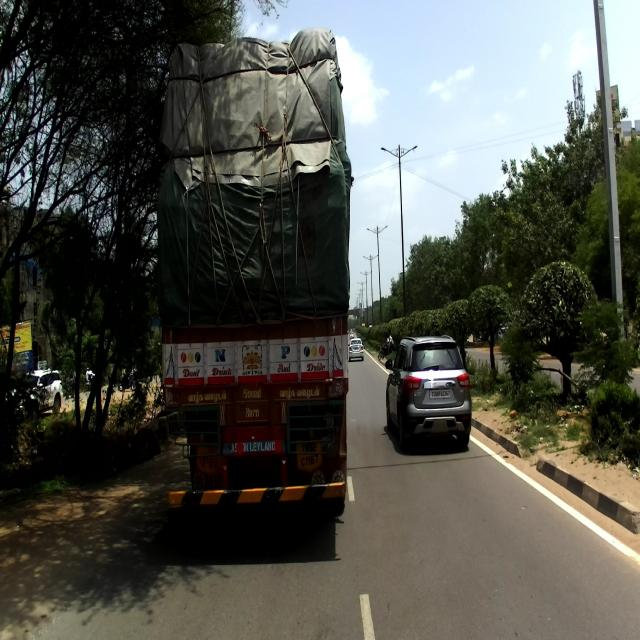Car: (5, 367, 62, 421)
Car_Maruti-Suzuki: (385, 334, 472, 450)
truck: (154, 66, 352, 518)
